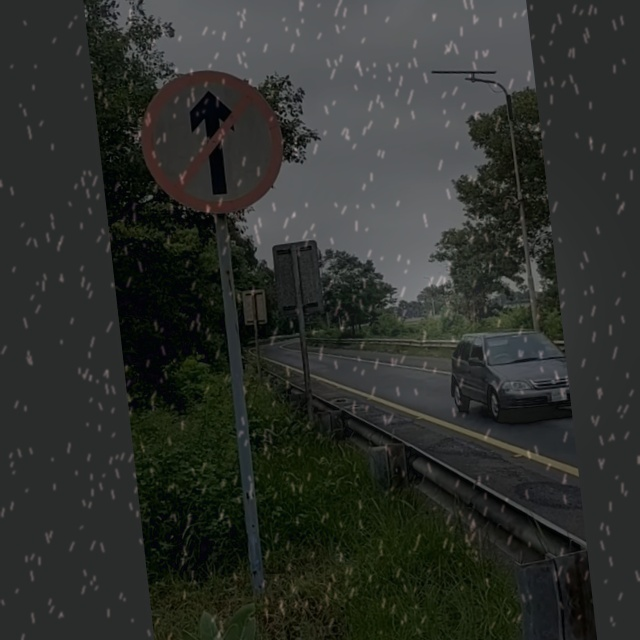No_Entry: (137, 65, 290, 220)
